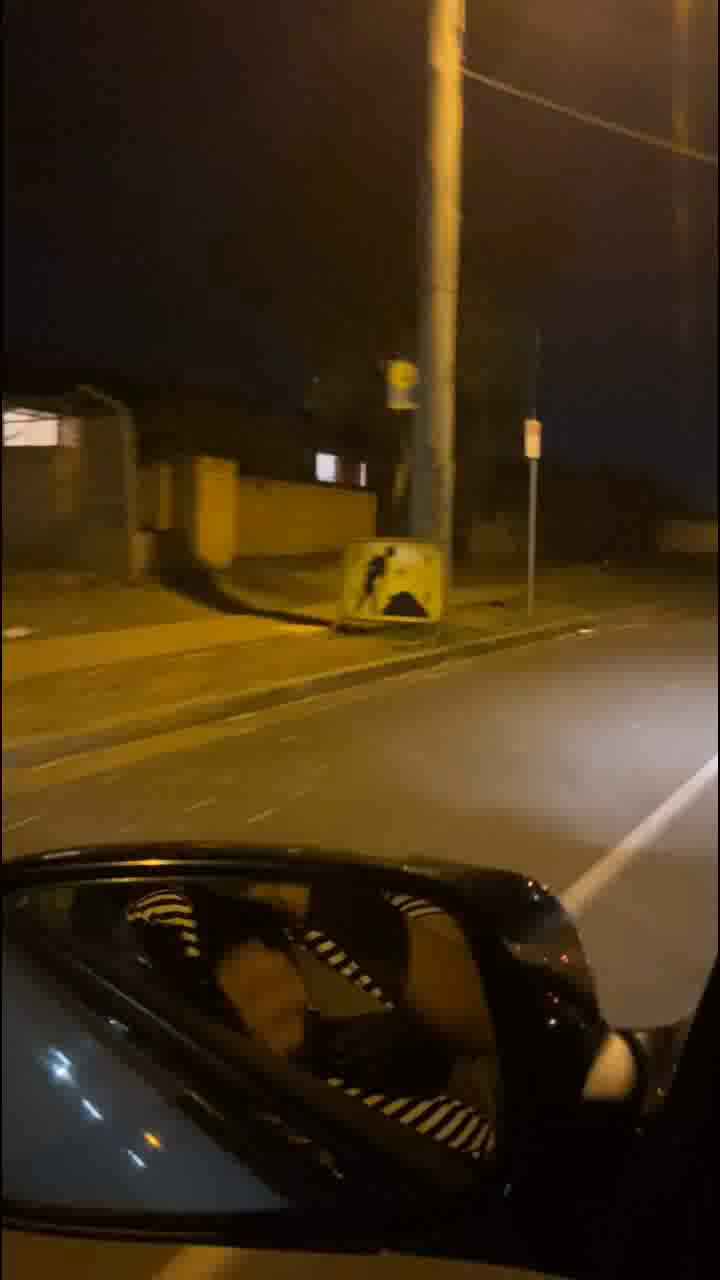road works sign board: (336, 539, 440, 620)
